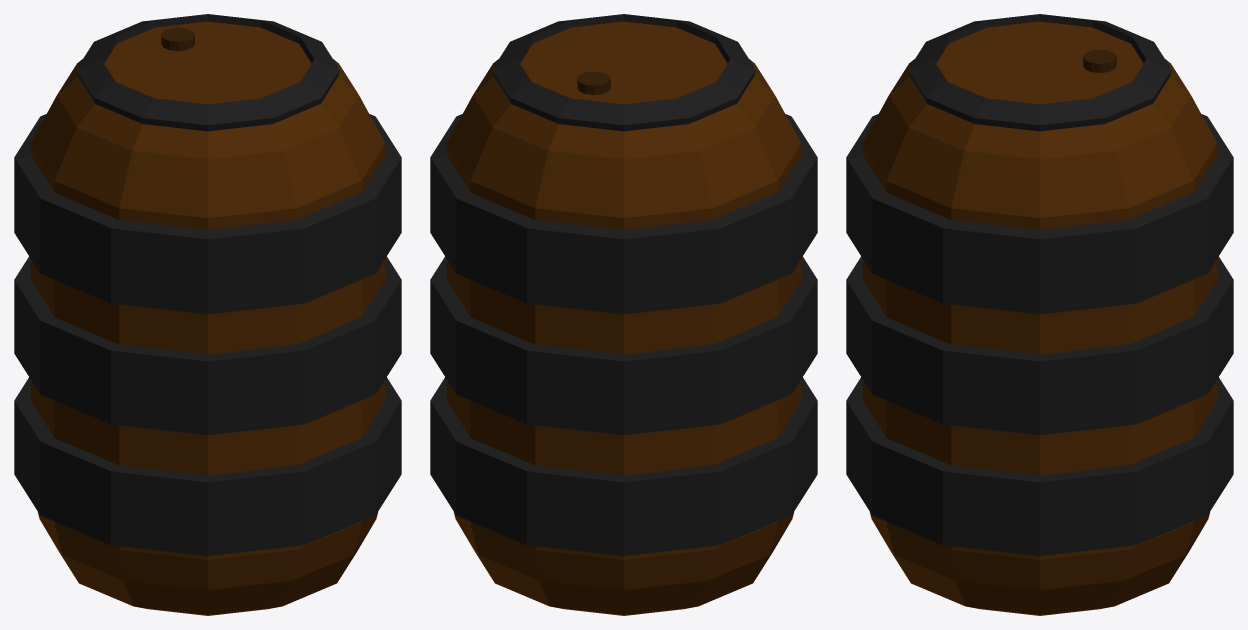
The model's file is Barrel_02.fbx.
3 views of the same model, side by side, from view 1: azimuth 30°, elevation 25°; view 2: azimuth 150°, elevation 25°; view 3: azimuth 270°, elevation 25° (orthographic).
Parts seen in each view (by area): view 1: Barrel_02; view 2: Barrel_02; view 3: Barrel_02.
Boxes of the visible parts, bbox=[...] form: Barrel_02: bbox=[14, 14, 401, 615]; Barrel_02: bbox=[430, 14, 817, 615]; Barrel_02: bbox=[846, 14, 1233, 615].
Size of the model in its own units: 63.25 by 91.66 by 63.25.
